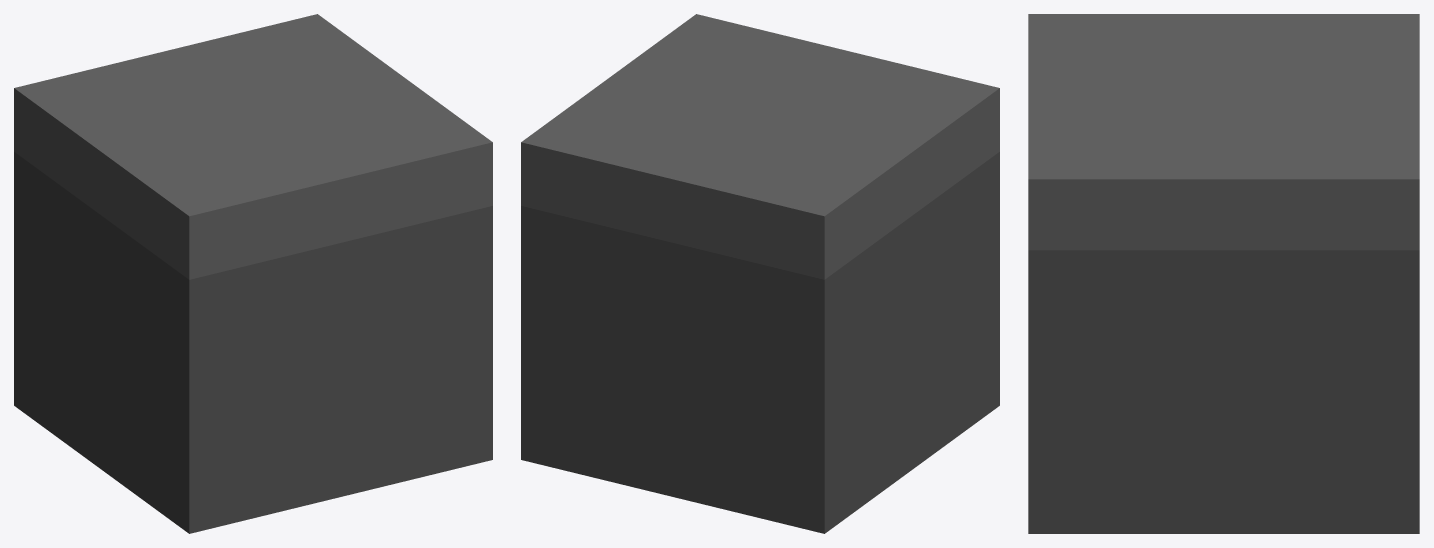
The model's file is BlocksAndFloors-64.obj.
The picture shows the model from 3 angles, left to right: view 1: azimuth 30°, elevation 25°; view 2: azimuth 150°, elevation 25°; view 3: azimuth 270°, elevation 25°; orthographic projection. The views are drawn at different scales.
Bounding box in the file's own units: 1 × 1 × 1.
1 material, 1 textured.
